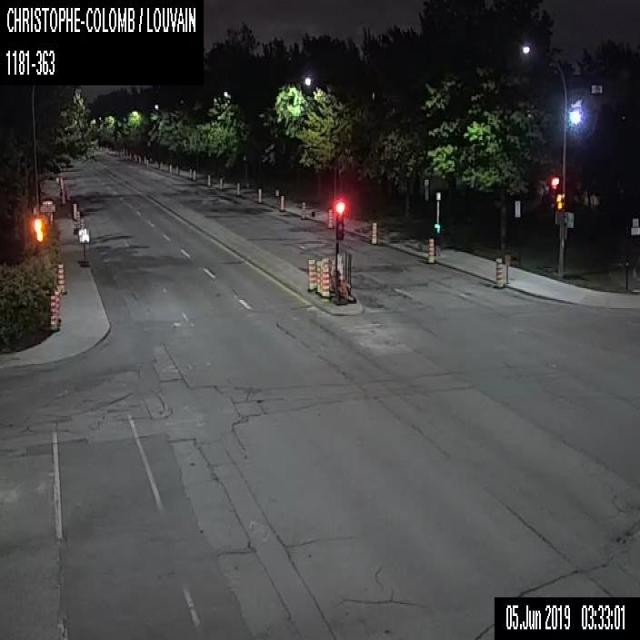construction: (77, 227, 89, 266), (49, 293, 59, 331), (320, 261, 330, 297), (493, 256, 504, 288), (314, 260, 324, 292), (57, 264, 67, 294), (307, 258, 316, 289), (320, 256, 328, 290), (426, 235, 436, 262), (53, 288, 60, 326), (56, 285, 63, 322), (503, 252, 510, 282), (369, 221, 377, 244), (326, 207, 334, 228), (75, 209, 80, 233), (278, 194, 285, 211), (300, 201, 306, 219), (72, 202, 76, 218), (61, 189, 65, 204), (258, 187, 262, 201), (236, 181, 240, 194), (218, 176, 222, 189), (66, 184, 69, 200), (192, 168, 196, 180), (188, 167, 192, 178), (168, 162, 172, 172), (207, 173, 210, 186), (80, 218, 84, 226), (145, 158, 148, 168), (175, 164, 178, 173), (144, 155, 146, 163)
